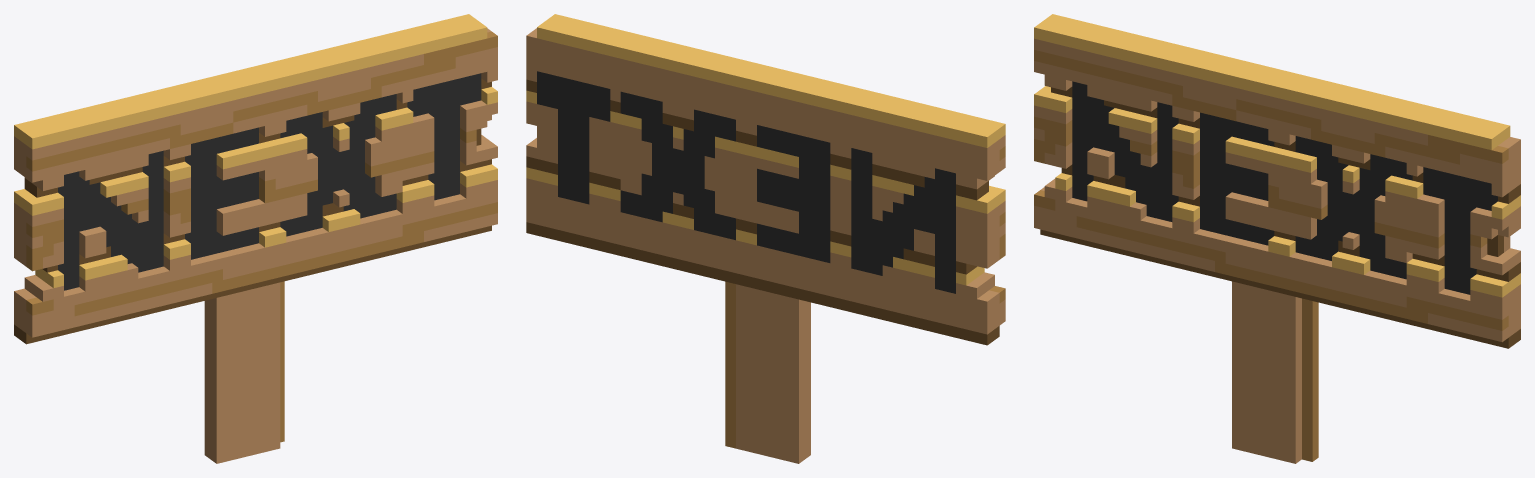
Rendered from sign.obj.
3 views of the same model, side by side, from view 1: azimuth 30°, elevation 25°; view 2: azimuth 150°, elevation 25°; view 3: azimuth 330°, elevation 25° (orthographic).
Bounding box in the file's own units: 4.4 × 3.4 × 0.3.
Materials: 1 (1 with a texture image).
